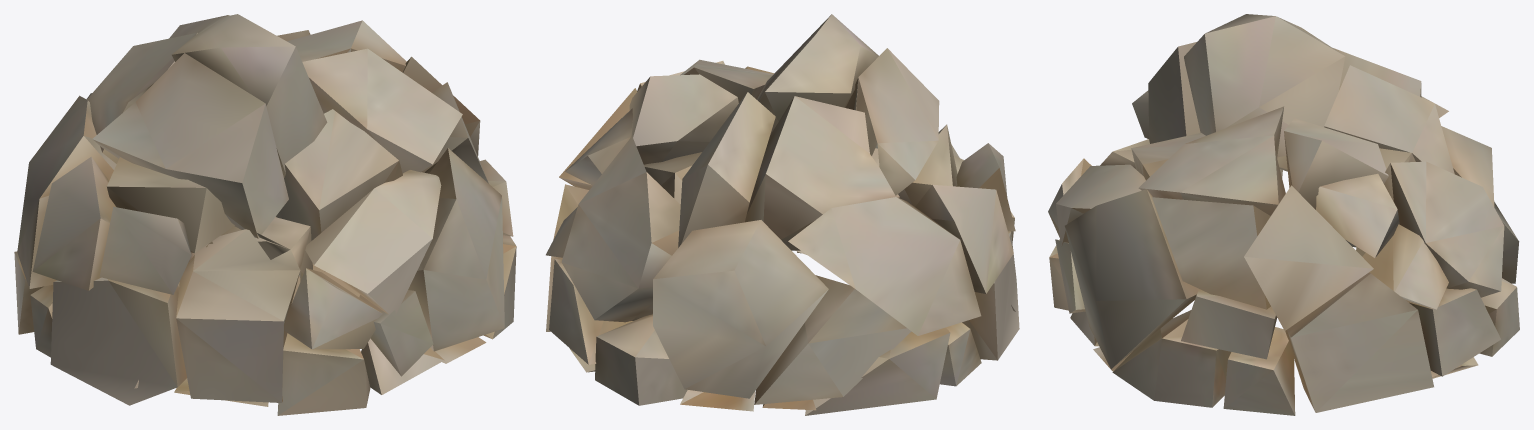
The model's file is resource_limestone_2.glb.
The picture shows the model from 3 angles, left to right: view 1: azimuth 30°, elevation 25°; view 2: azimuth 150°, elevation 25°; view 3: azimuth 270°, elevation 25°; orthographic projection. The views are drawn at different scales.
Visible parts, largest first — view 1: MeshyGear_resource_limestone; view 2: MeshyGear_resource_limestone; view 3: MeshyGear_resource_limestone.
Boxes of the visible parts, <box> form: MeshyGear_resource_limestone: <box>14,14,516,415</box>; MeshyGear_resource_limestone: <box>546,14,1019,415</box>; MeshyGear_resource_limestone: <box>1048,14,1519,415</box>.
Size of what is drawn, in the model's own units: 2.23 by 1.51 by 2.22.
1 material, 1 textured.
